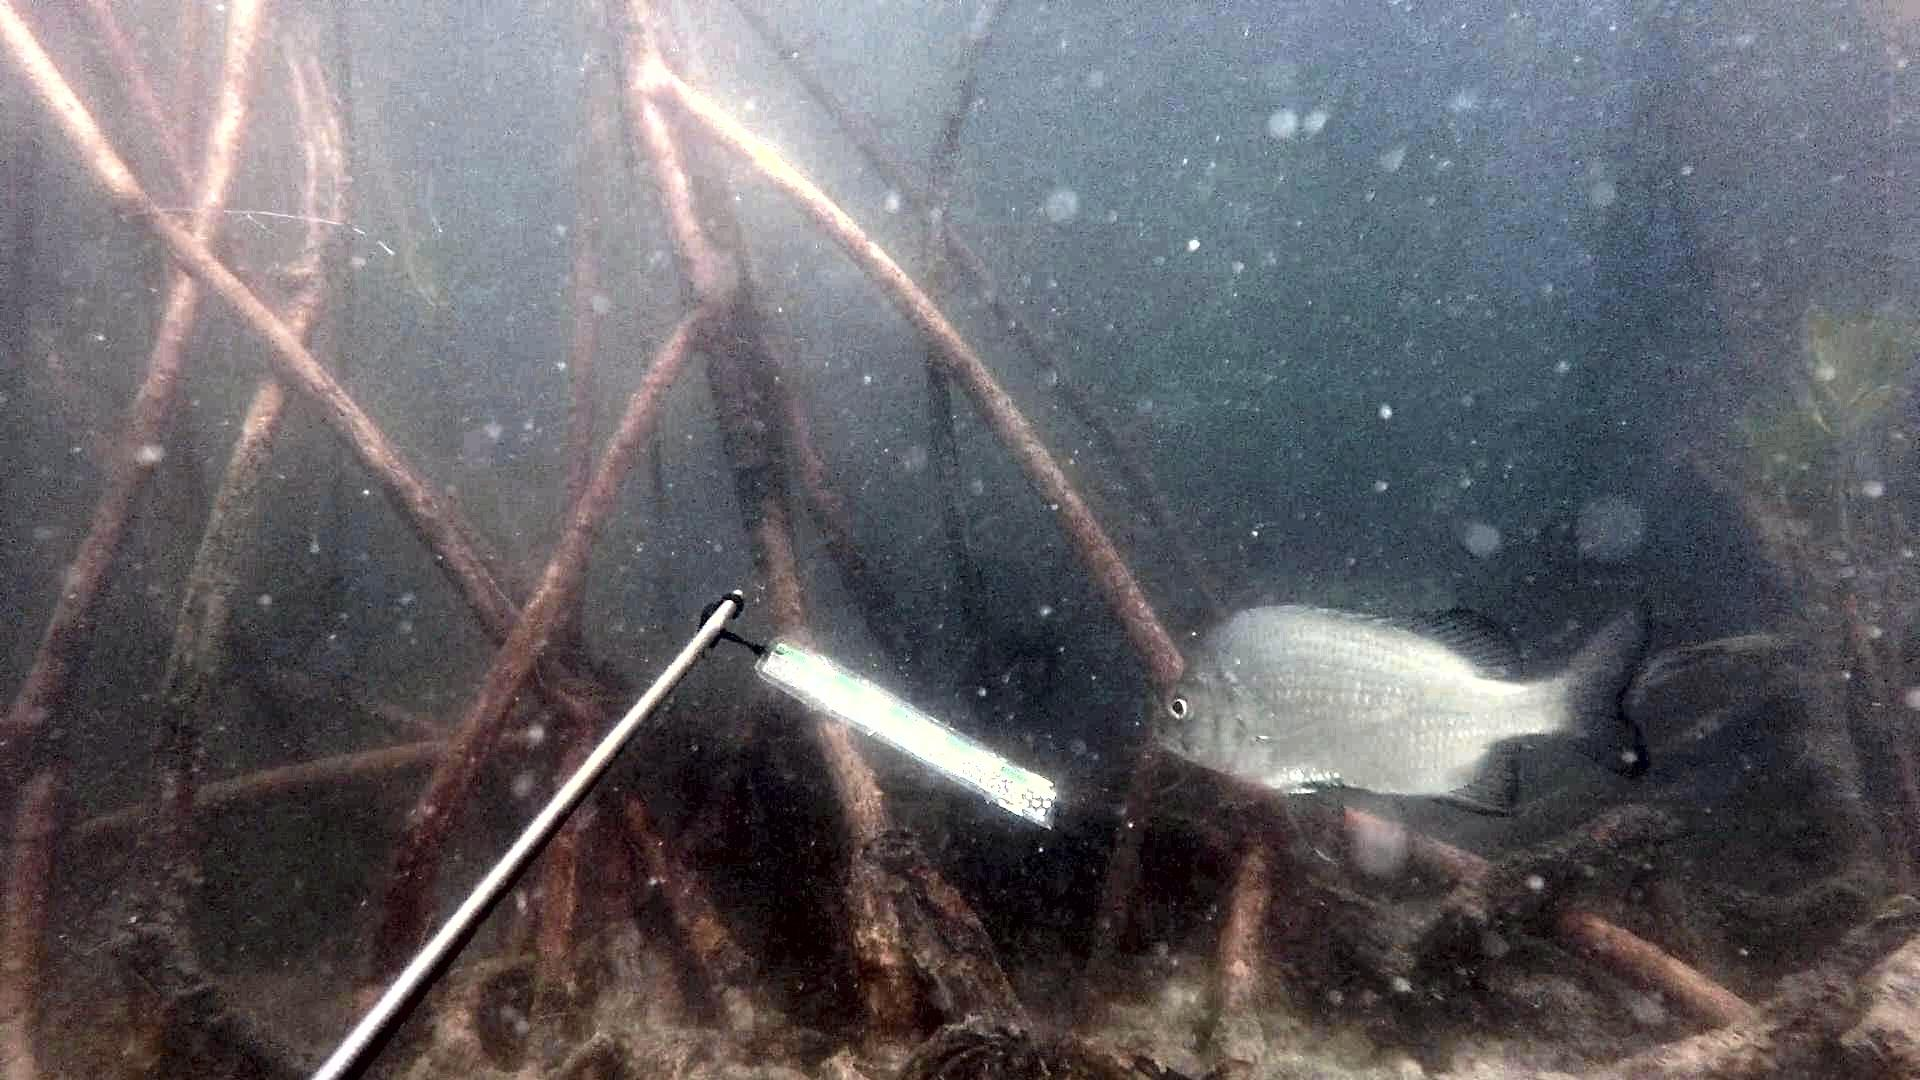acanthopagrus palmaris: (1145, 583, 1670, 883)
